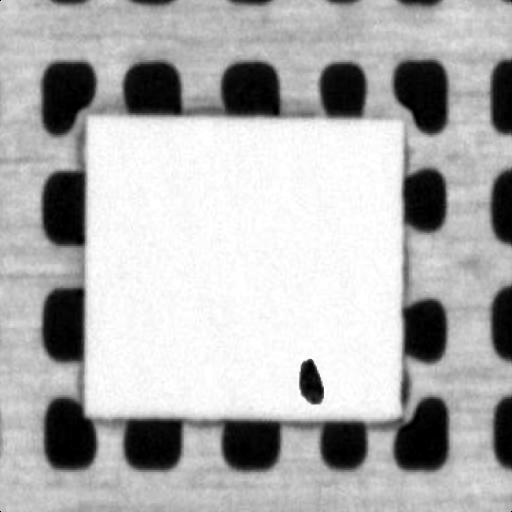DIE_INK: (392, 265, 432, 306)
